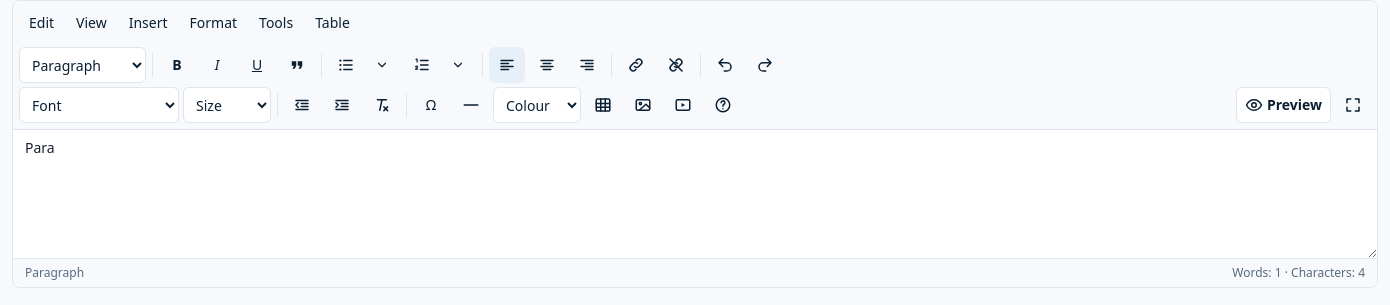
Test: MarkdownTextarea blocks › increases and decreases the indent
The image size is (1390, 305).
Click the button named "Increase indent" at (342, 105), box [324, 87, 360, 123]
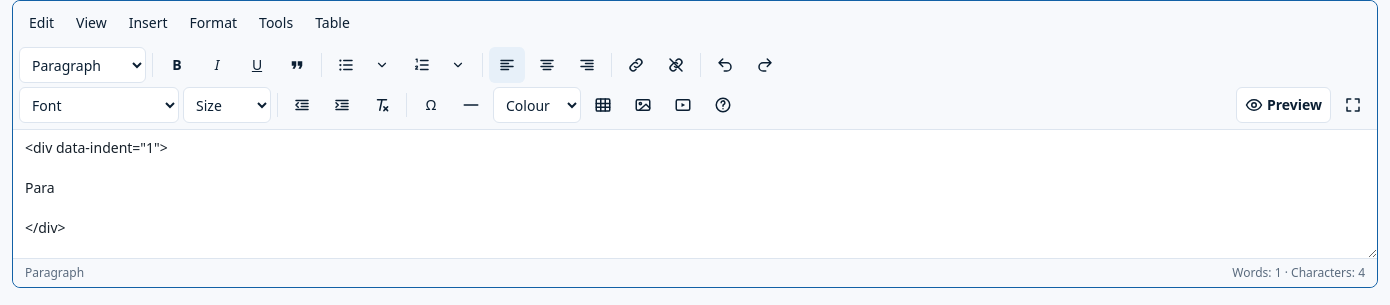
Click the button named "Decrease indent" at (302, 105), box [284, 87, 320, 123]
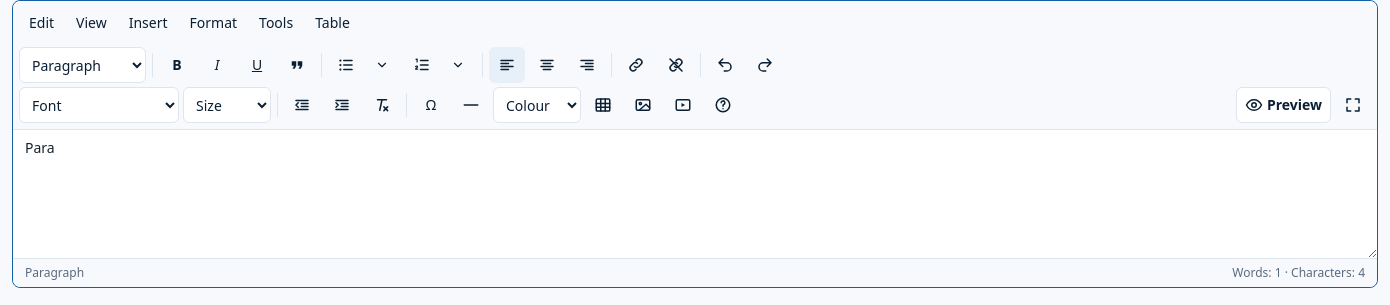
expect the text box named "Body" holds "Para": met, box [13, 130, 1377, 258]
